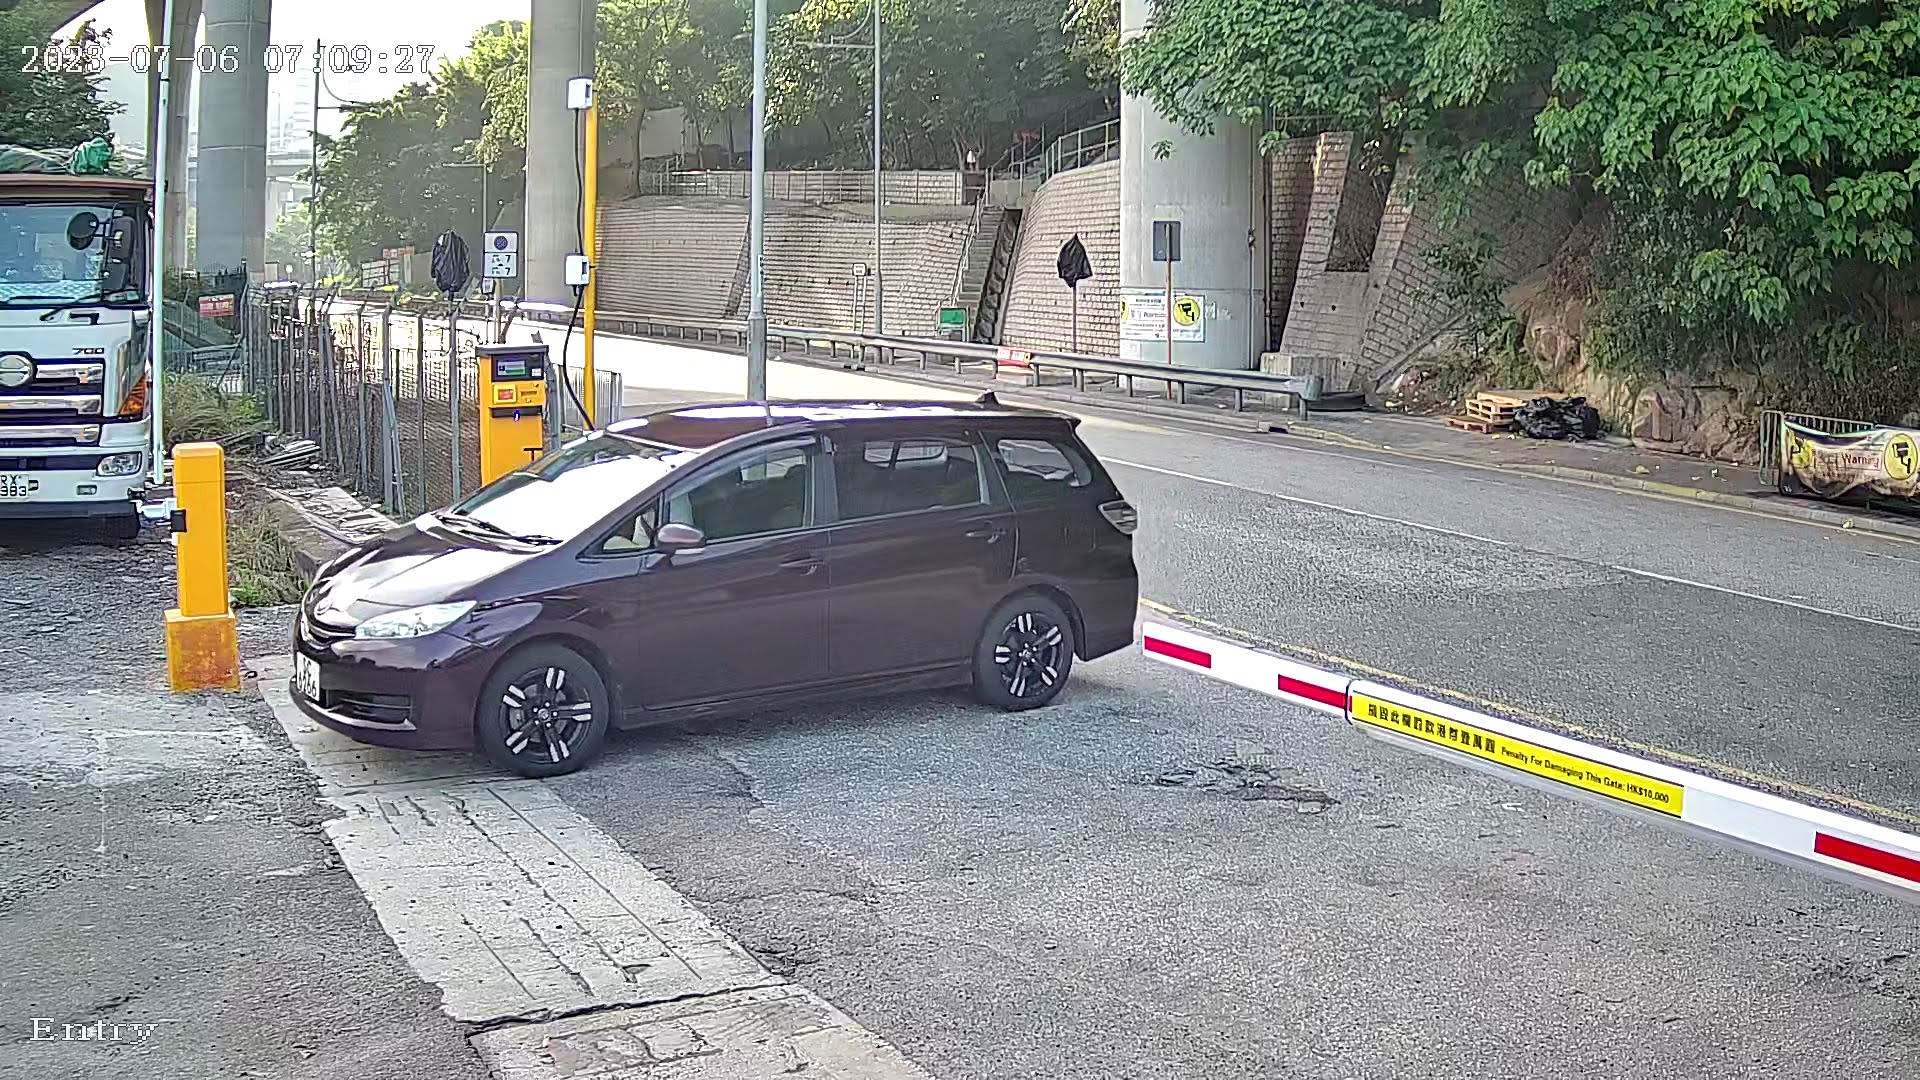privatecar: (231, 323, 1168, 823)
